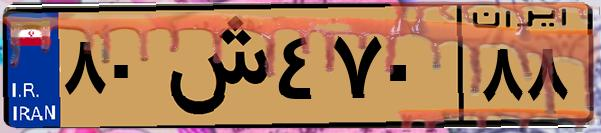0: (385, 28, 445, 110), (110, 28, 158, 98)
4: (270, 28, 330, 110)
7: (330, 28, 385, 110)
8: (57, 26, 110, 100), (475, 38, 525, 113), (525, 38, 570, 115)
ش: (158, 12, 270, 120)
